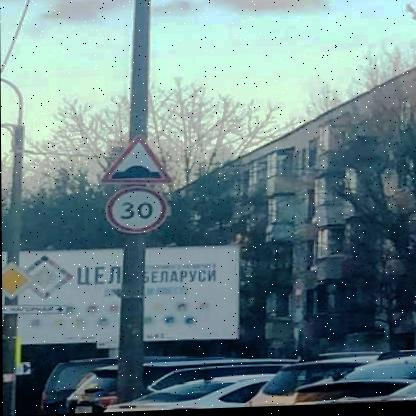Speed Limit -30-: (104, 185, 169, 237)
